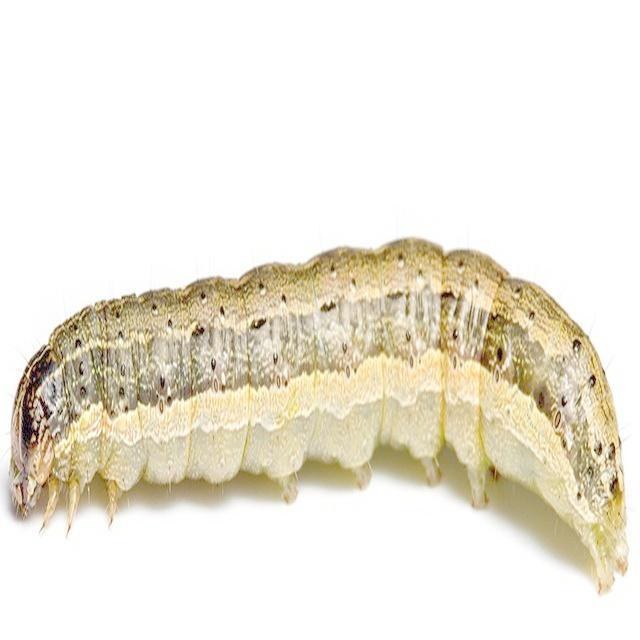Plaga: (9, 238, 629, 598)
